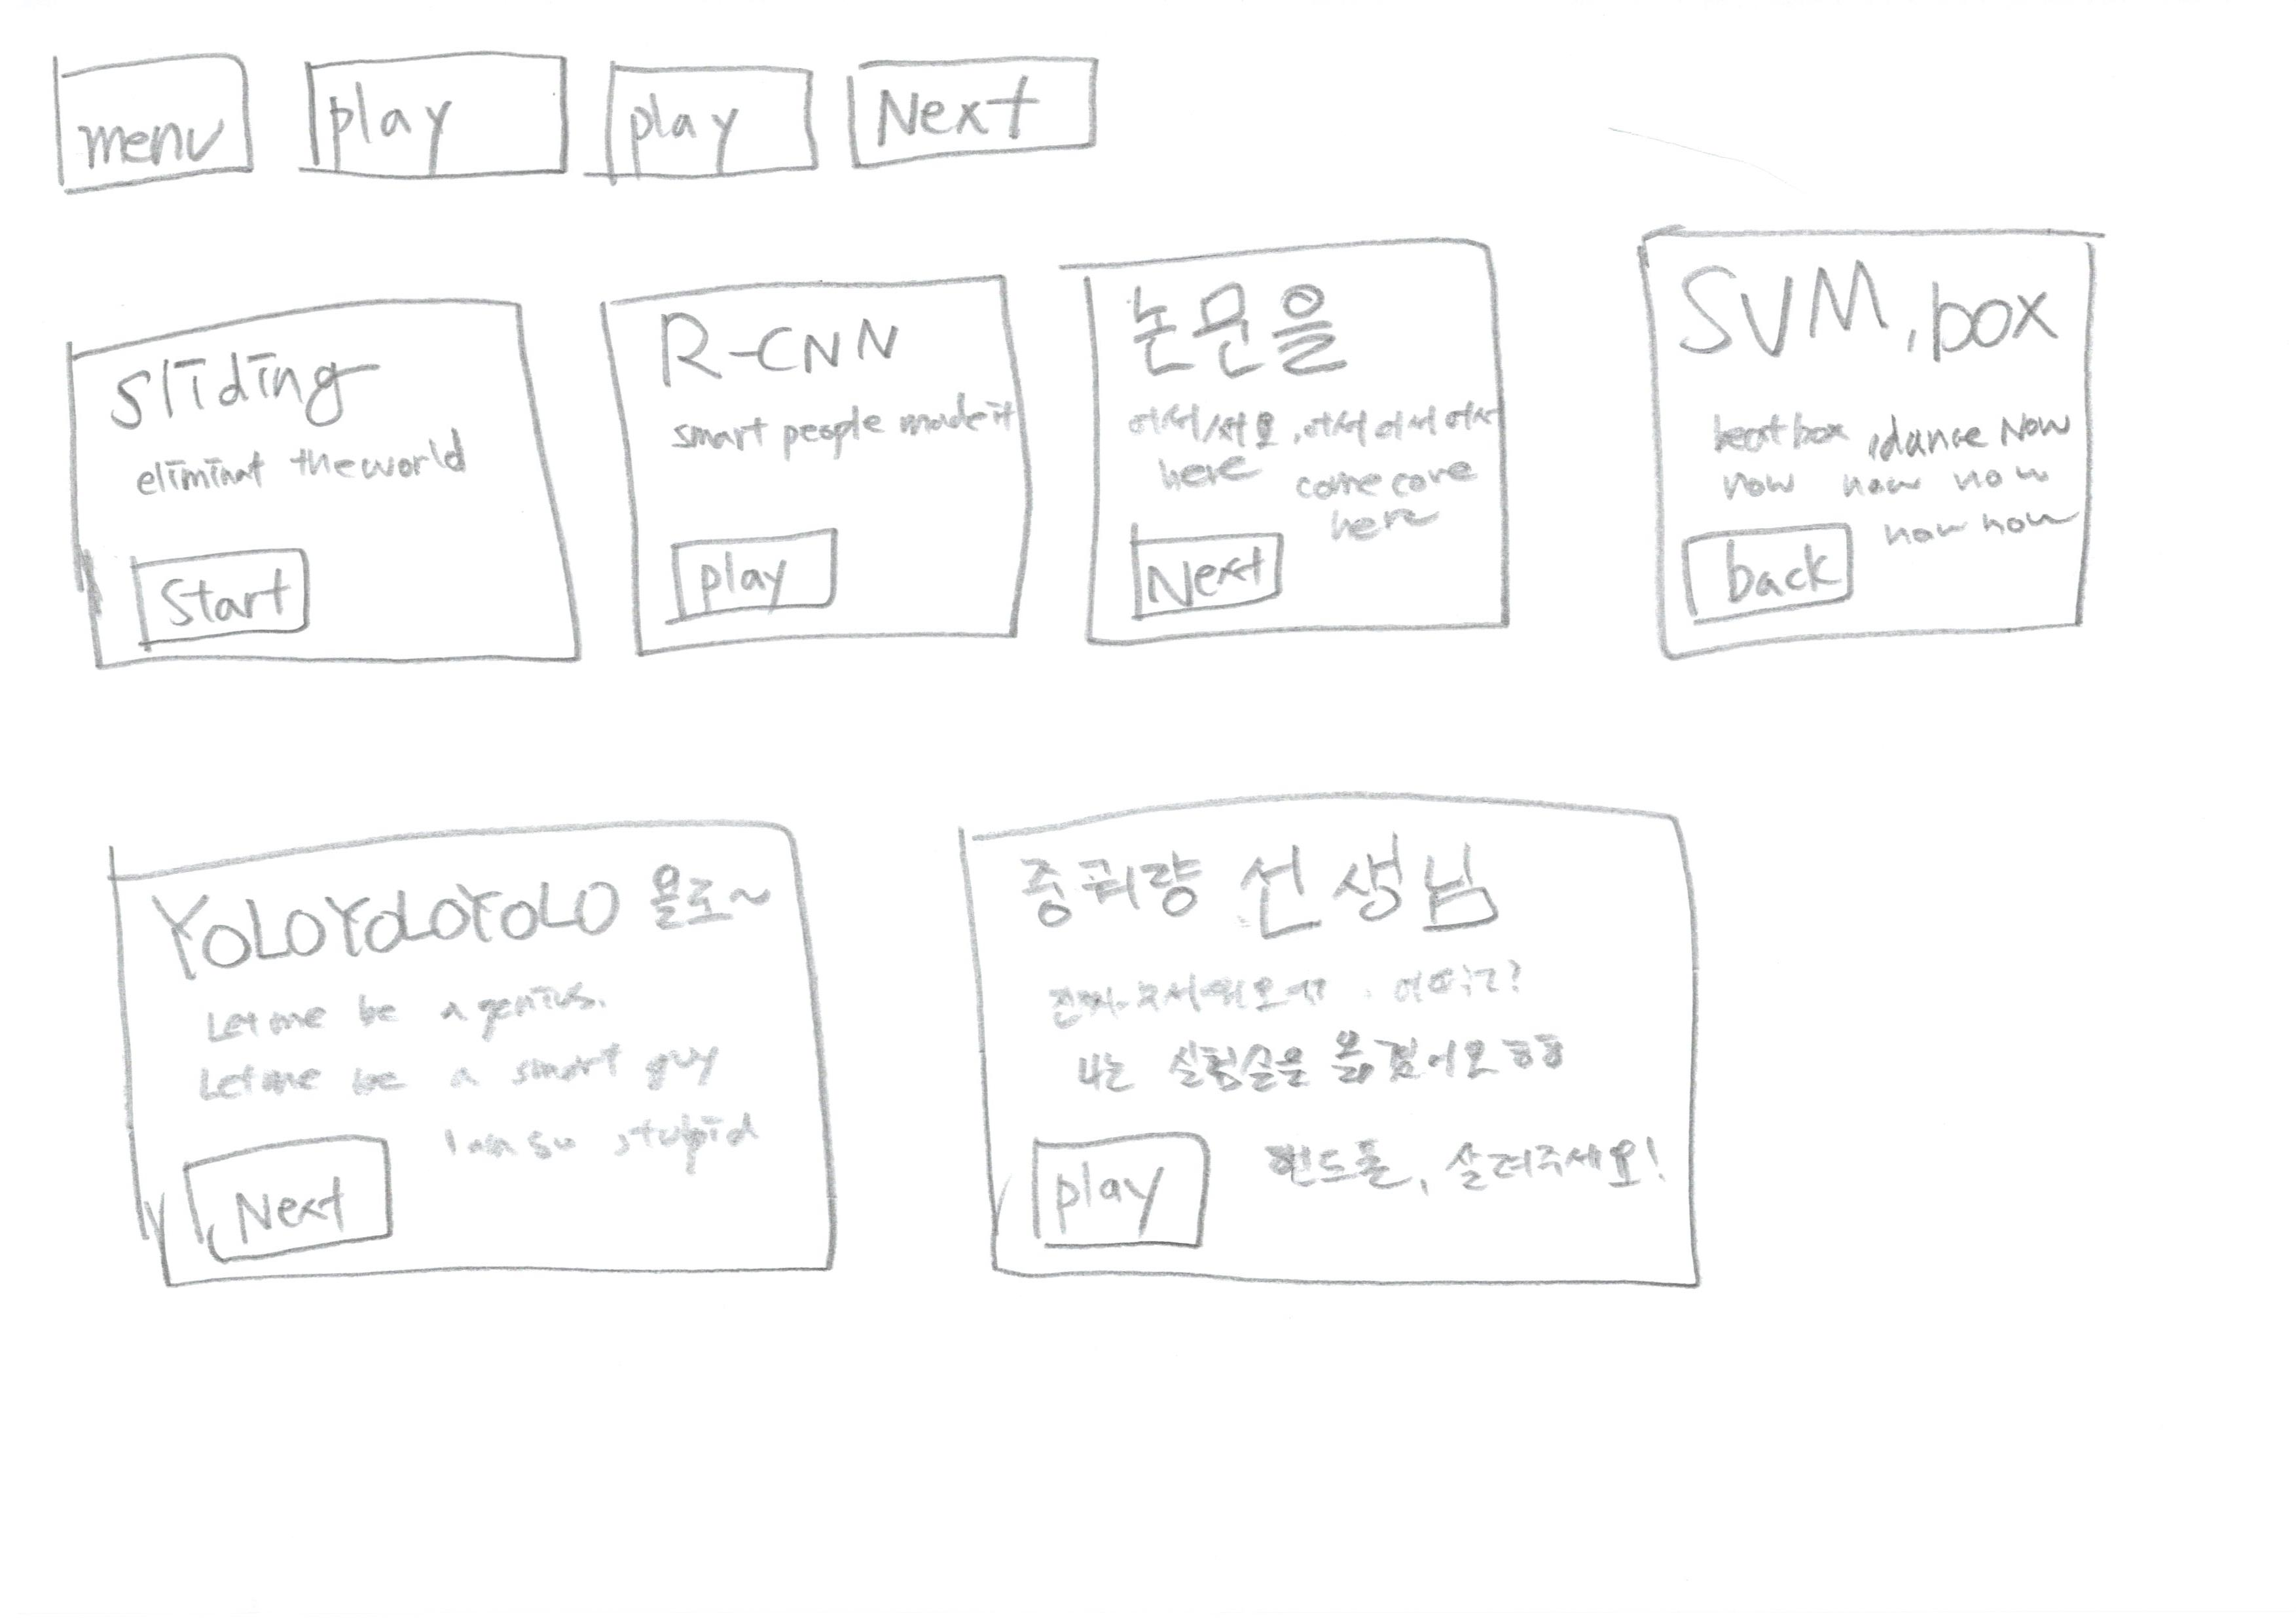back: (1668, 508, 1864, 642)
double: (88, 793, 884, 1327), (946, 784, 1742, 1318)
menu: (26, 35, 287, 213)
next: (839, 14, 1125, 213), (169, 1118, 429, 1271), (1113, 515, 1311, 624)
play: (276, 28, 578, 223), (584, 12, 840, 213), (1020, 1114, 1243, 1274), (652, 515, 870, 643)
quadruple: (30, 276, 596, 729), (1605, 206, 2111, 698), (1060, 216, 1565, 708), (598, 257, 1062, 714)
row: (7, 714, 2280, 1380), (60, 214, 2245, 740), (18, 9, 2252, 211)
small-title: (137, 870, 775, 974), (1011, 826, 1529, 942), (1682, 253, 2064, 387), (91, 339, 399, 448), (1136, 260, 1357, 374), (650, 306, 890, 397)
start: (116, 534, 339, 668)
text: (181, 981, 733, 1114), (1257, 1046, 1672, 1222), (1025, 944, 1542, 1084), (438, 1055, 772, 1195), (1122, 392, 1475, 520), (1700, 395, 2050, 503), (696, 385, 1020, 473), (118, 424, 513, 485), (1897, 441, 2060, 554)
